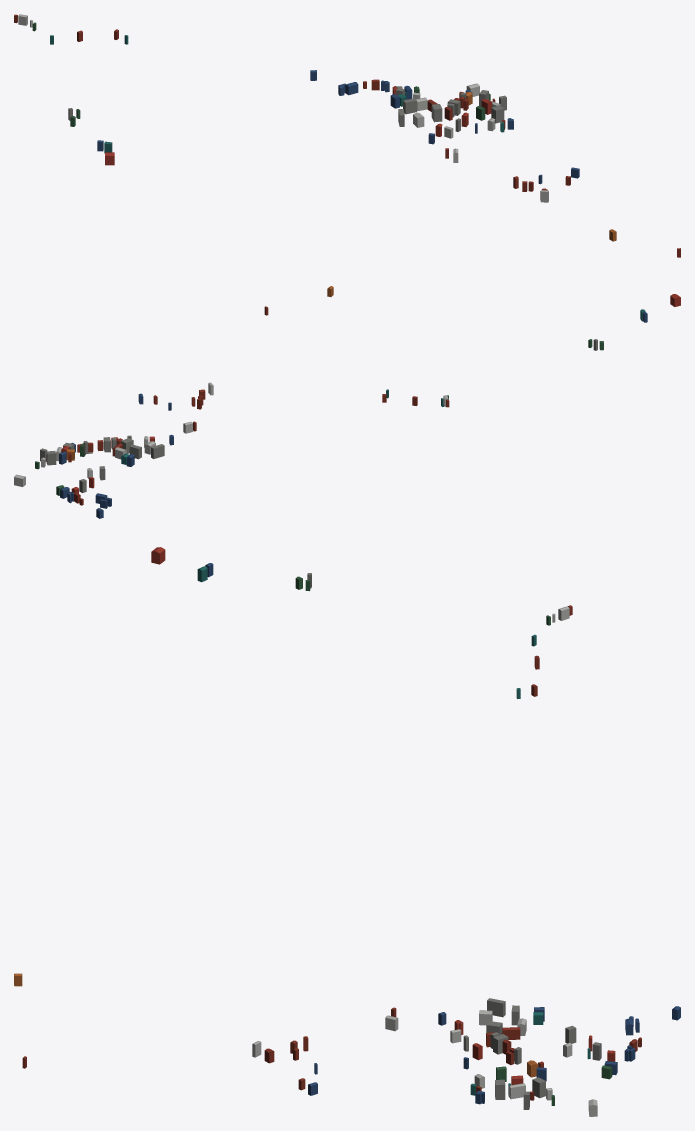
Rendered from near-15-27357-14864.1f5d766f.glb.
The picture shows the model from 3 angles, top to bottom: view 1: azimuth 30°, elevation 25°; view 2: azimuth 150°, elevation 25°; view 3: azimuth 270°, elevation 25°; orthographic projection. The views are drawn at different scales.
Bounding box in the file's own units: 1150 × 415 × 1007.
